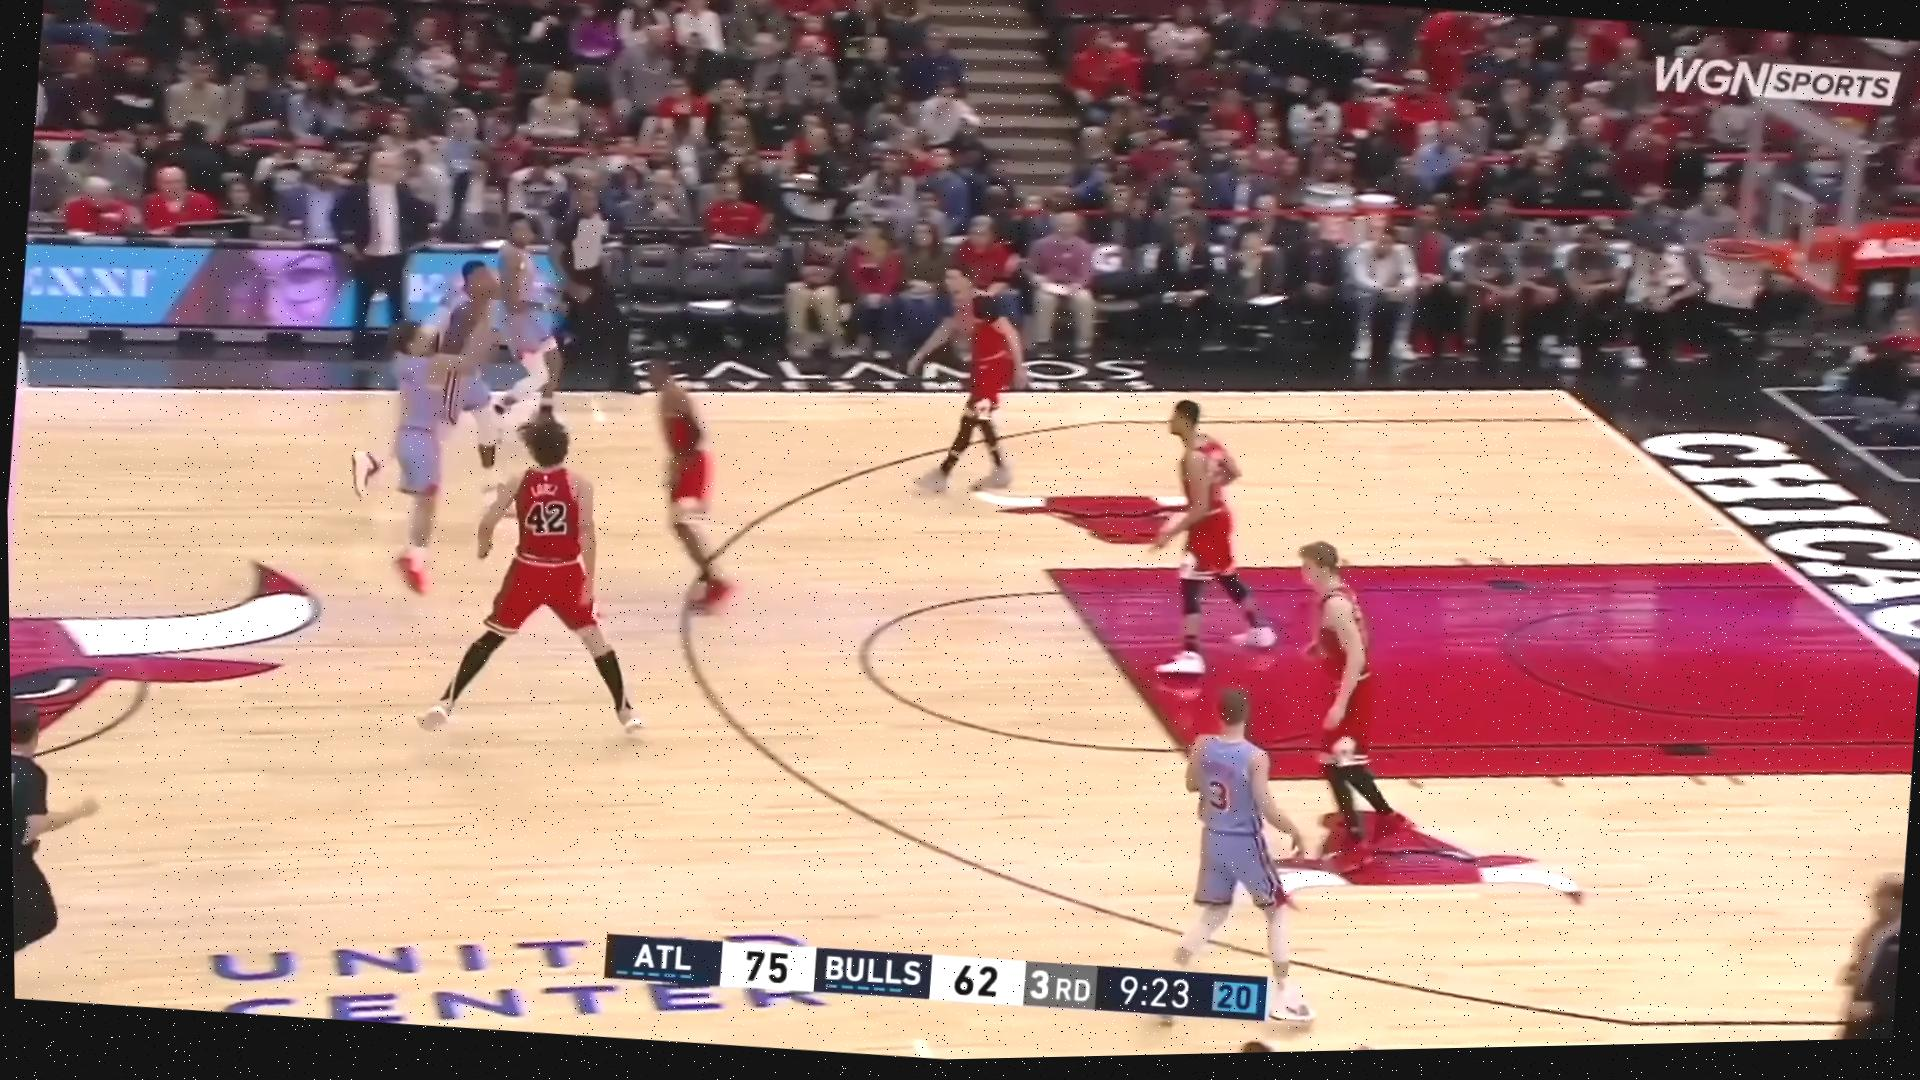no_foul: (340, 301, 711, 737)
